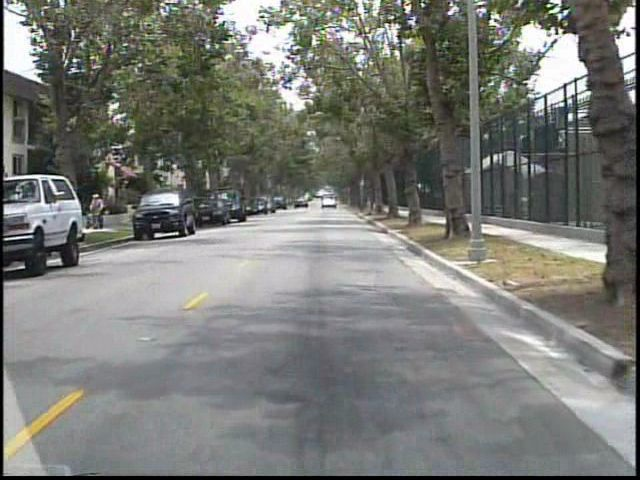person: (93, 194, 112, 234)
